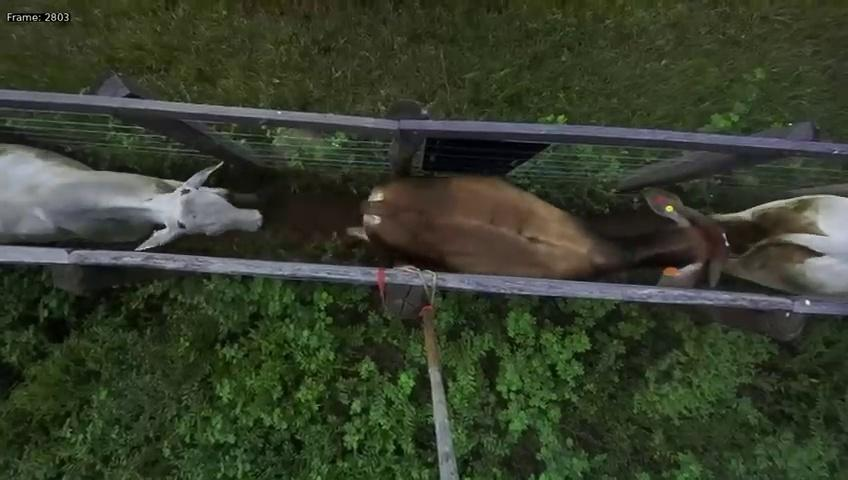cattle: (337, 154, 738, 300)
